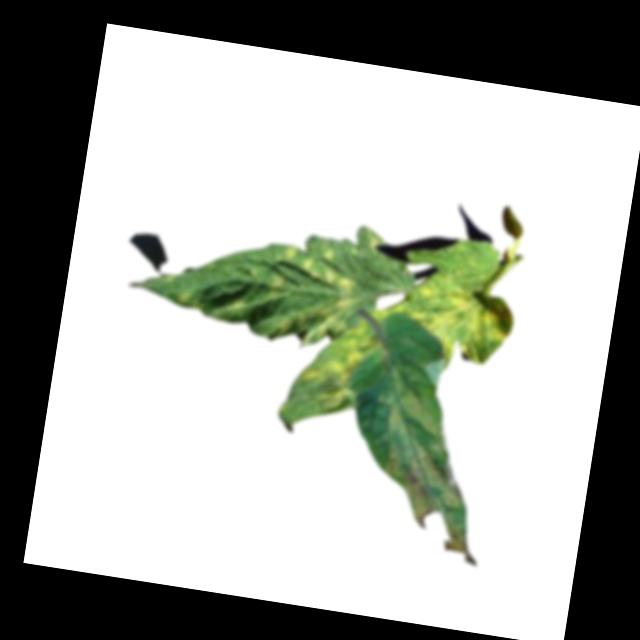Leaf_Mold: (356, 359, 500, 559), (264, 233, 367, 348), (395, 278, 515, 371), (292, 313, 382, 422)
